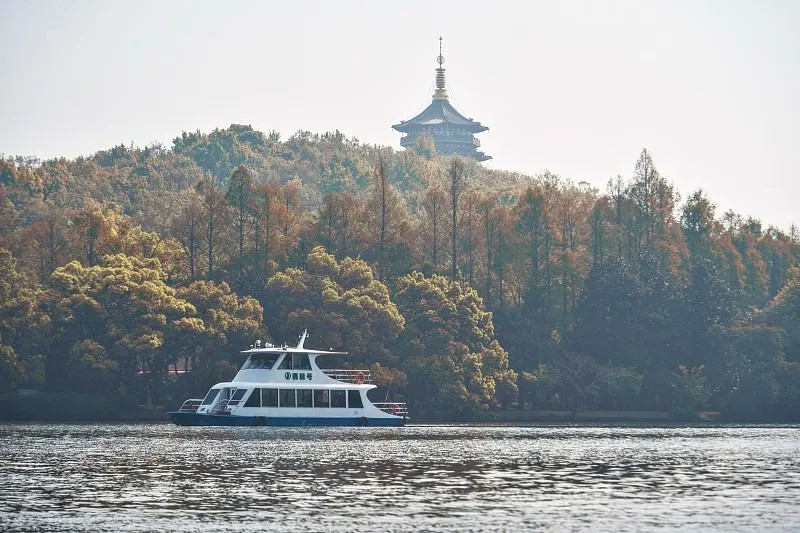Leifeng: (390, 35, 499, 170)
